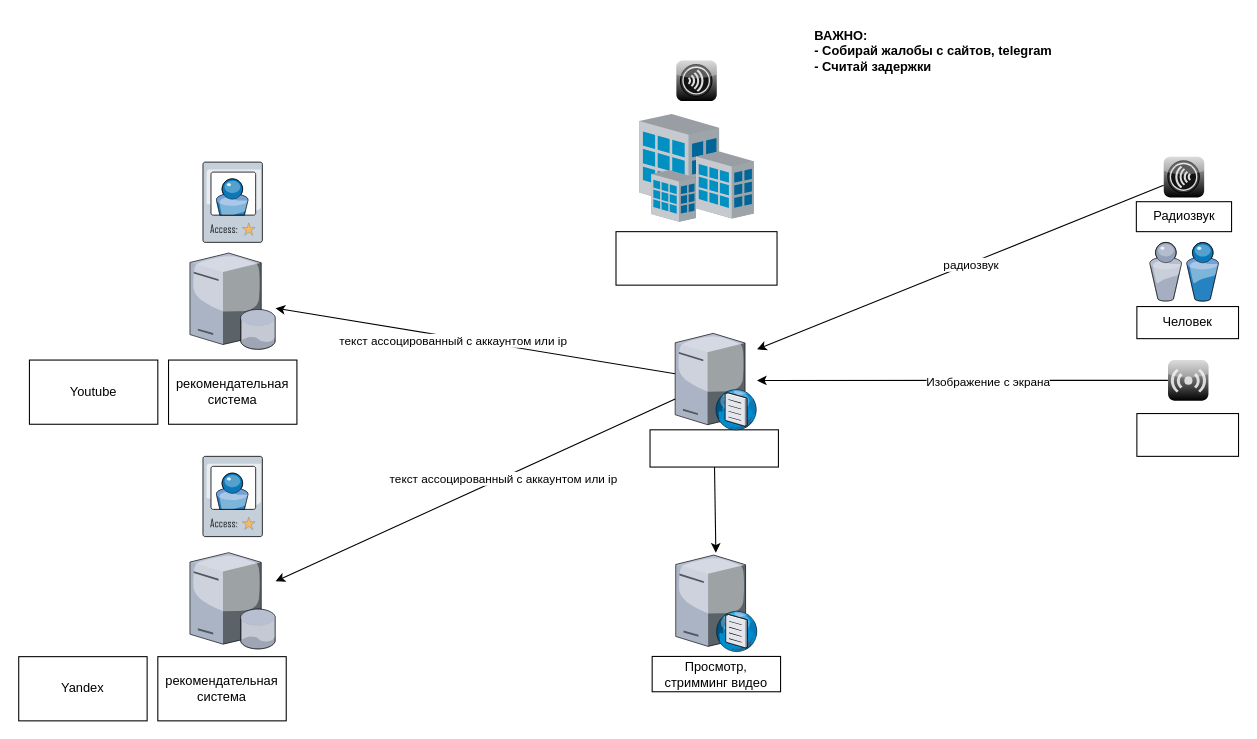
Image size: 1257x739. Some labels were removed from this diagram. The centre of each missing label's shape, as x and y in pixels:
"ПЭМИН TEMPEST" belongs at (x=1187, y=434).
"Радиовышки (2G, 3G, 4G) работающие не направильных частотах" belongs at (x=696, y=258).
"Сервер для обработки сигналов" belongs at (x=713, y=448).
